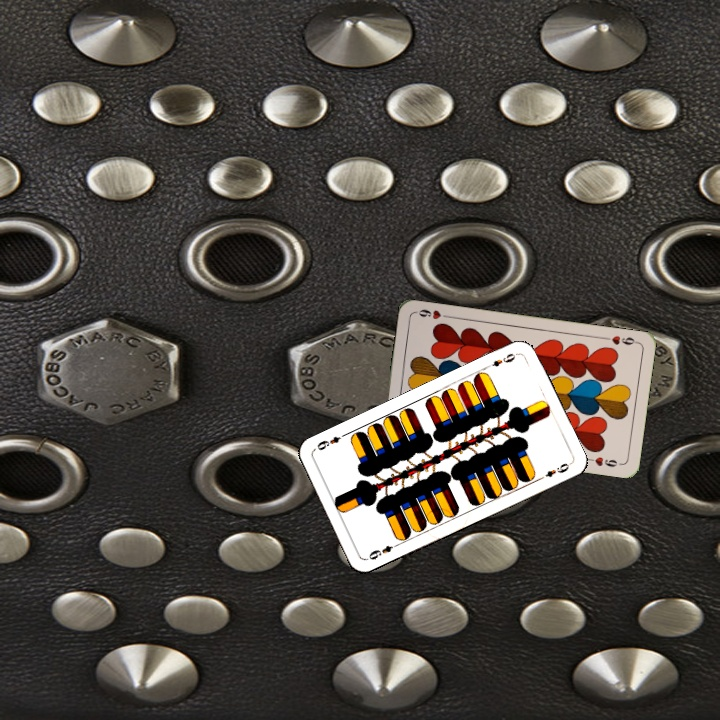E9: (363, 539, 401, 562), (482, 349, 520, 371)
H9: (600, 332, 640, 347)
